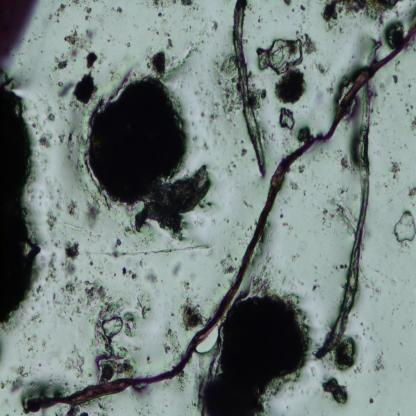Air bubble: (193, 326, 220, 354)
Background material: (79, 73, 213, 242), (195, 290, 311, 415), (0, 74, 44, 326), (89, 286, 139, 378), (46, 239, 101, 314), (257, 36, 306, 108), (205, 57, 245, 124), (321, 1, 401, 28), (5, 366, 66, 399), (96, 244, 209, 261), (322, 184, 357, 236), (56, 29, 100, 68), (40, 169, 62, 238), (252, 254, 287, 295), (173, 35, 210, 69), (221, 209, 255, 242), (28, 112, 55, 152), (390, 206, 416, 245), (179, 294, 205, 332), (162, 319, 184, 363), (47, 2, 91, 23), (322, 374, 351, 405), (74, 69, 98, 104), (64, 344, 86, 380), (148, 46, 170, 81), (336, 338, 359, 370), (14, 335, 43, 359), (57, 124, 80, 154), (49, 74, 73, 101), (65, 401, 108, 416), (110, 262, 139, 284), (360, 274, 381, 304), (135, 287, 155, 318), (151, 0, 180, 21), (386, 22, 406, 52), (274, 204, 292, 233), (85, 0, 110, 20), (278, 107, 298, 131), (370, 350, 387, 376), (313, 53, 330, 77), (64, 192, 78, 221), (220, 255, 238, 277), (404, 106, 416, 134), (140, 268, 158, 286), (236, 190, 253, 209), (386, 160, 402, 180), (302, 33, 315, 56), (324, 260, 348, 271), (106, 67, 119, 87), (376, 82, 390, 100), (340, 155, 353, 174), (299, 126, 310, 147), (46, 105, 57, 124), (358, 317, 369, 336), (297, 0, 306, 22), (180, 375, 193, 389), (164, 31, 174, 49), (180, 0, 197, 10), (295, 160, 309, 172), (134, 256, 146, 270), (173, 261, 182, 279), (407, 181, 416, 199), (394, 70, 402, 90), (112, 3, 124, 15), (328, 79, 336, 96), (288, 181, 301, 191), (97, 52, 107, 64), (180, 279, 190, 289), (212, 22, 221, 32), (367, 393, 374, 405), (122, 40, 132, 48), (312, 285, 321, 293), (256, 14, 262, 25), (144, 355, 152, 363), (283, 1, 293, 7), (380, 183, 388, 190), (301, 188, 308, 196)
Cellulose filter fibre: (316, 37, 382, 360), (230, 0, 266, 174)
Cotton: (27, 26, 416, 413)
Pen: (0, 0, 40, 76)
